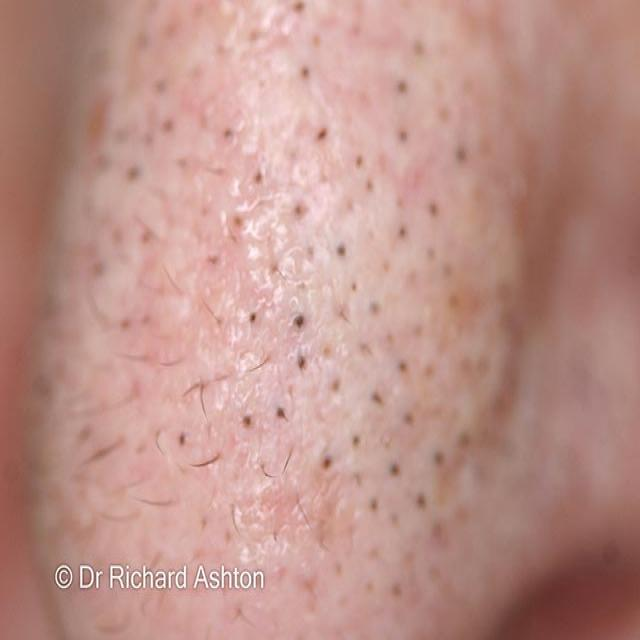blackhead: (470, 460, 488, 485), (498, 436, 517, 459), (601, 540, 618, 564), (430, 74, 447, 96), (459, 76, 473, 98), (435, 106, 452, 124), (426, 568, 443, 586), (292, 202, 309, 219), (459, 356, 473, 376), (499, 275, 509, 302), (289, 0, 308, 14), (412, 39, 426, 58), (431, 448, 445, 467), (112, 226, 125, 246), (93, 156, 109, 172), (447, 291, 461, 309), (410, 321, 424, 339), (114, 128, 126, 149), (367, 300, 382, 316), (136, 34, 149, 52), (311, 30, 323, 49), (478, 357, 490, 376), (370, 391, 384, 407), (346, 198, 360, 214), (388, 510, 401, 527), (456, 429, 468, 447), (366, 495, 378, 513), (368, 545, 380, 563), (396, 79, 406, 100), (456, 145, 466, 166), (321, 453, 332, 472), (127, 164, 140, 180), (140, 230, 153, 246), (427, 200, 439, 217), (440, 262, 452, 279), (423, 360, 433, 380), (415, 490, 425, 510), (435, 38, 446, 56), (145, 0, 163, 11), (387, 462, 400, 477), (402, 412, 414, 428), (160, 115, 172, 131), (398, 126, 408, 145), (431, 522, 441, 541), (294, 313, 305, 330), (154, 80, 168, 93), (200, 113, 209, 133), (139, 310, 150, 326), (255, 170, 264, 189), (425, 245, 435, 262), (224, 129, 234, 146), (397, 360, 409, 374), (383, 330, 395, 344), (334, 243, 346, 257), (232, 216, 244, 230), (242, 415, 254, 429), (142, 132, 154, 146), (206, 252, 218, 266), (320, 344, 332, 358), (331, 377, 342, 392), (300, 65, 310, 81), (316, 126, 326, 142), (256, 76, 266, 92), (277, 407, 287, 423), (178, 433, 188, 449), (480, 424, 493, 436), (391, 585, 403, 598), (164, 26, 176, 39), (194, 6, 207, 18), (92, 261, 104, 274), (363, 580, 373, 595), (352, 432, 362, 447), (223, 530, 233, 545), (364, 178, 374, 192), (434, 340, 444, 354), (250, 32, 261, 44), (298, 354, 306, 370), (354, 154, 362, 169), (350, 280, 359, 293), (397, 224, 405, 238), (382, 261, 389, 277), (120, 320, 128, 334), (431, 406, 442, 416), (201, 516, 210, 528), (334, 562, 342, 575), (306, 246, 316, 256), (271, 262, 278, 274), (250, 311, 258, 321), (299, 280, 305, 292), (397, 196, 402, 210)
